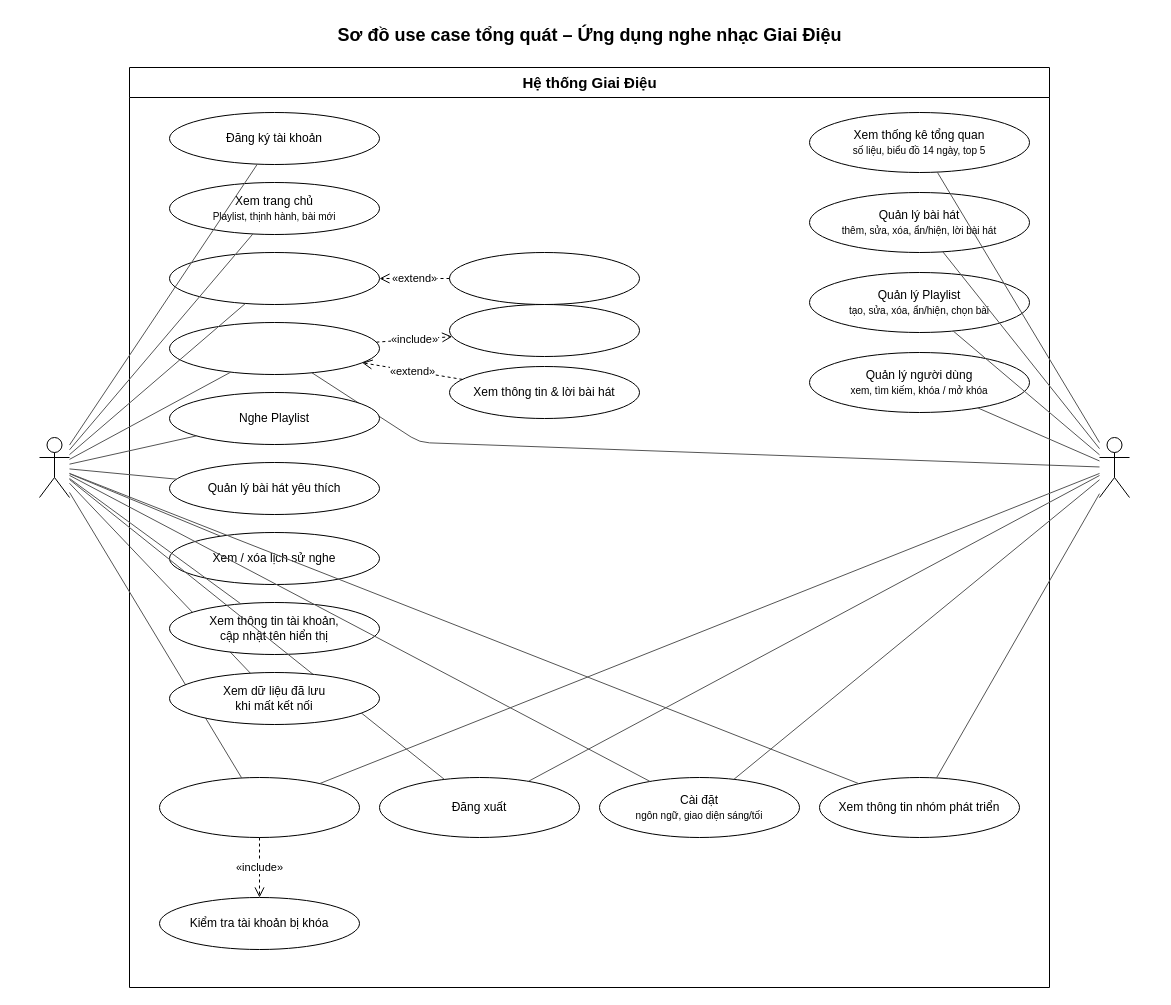
Some shapes in this 1171 by 1005 pixel diagram are drawn without their labels. The shapes that lost their labels are listed below. From the top down, each one's centre as x and y in pixels, then its label:
At (x=274, y=278): "Tìm kiếm bài hát".
At (x=544, y=278): "Lọc theo thể loại".
At (x=274, y=348): "Nghe nhạc phát, tạm dừng, tua, chuyển bài".
At (x=544, y=330): "Ghi lịch sử & tăng lượt nghe".
At (x=54, y=467): "Người dùng".
At (x=1114, y=467): "Quản trị viên".
At (x=259, y=807): "Đăng nhập".
